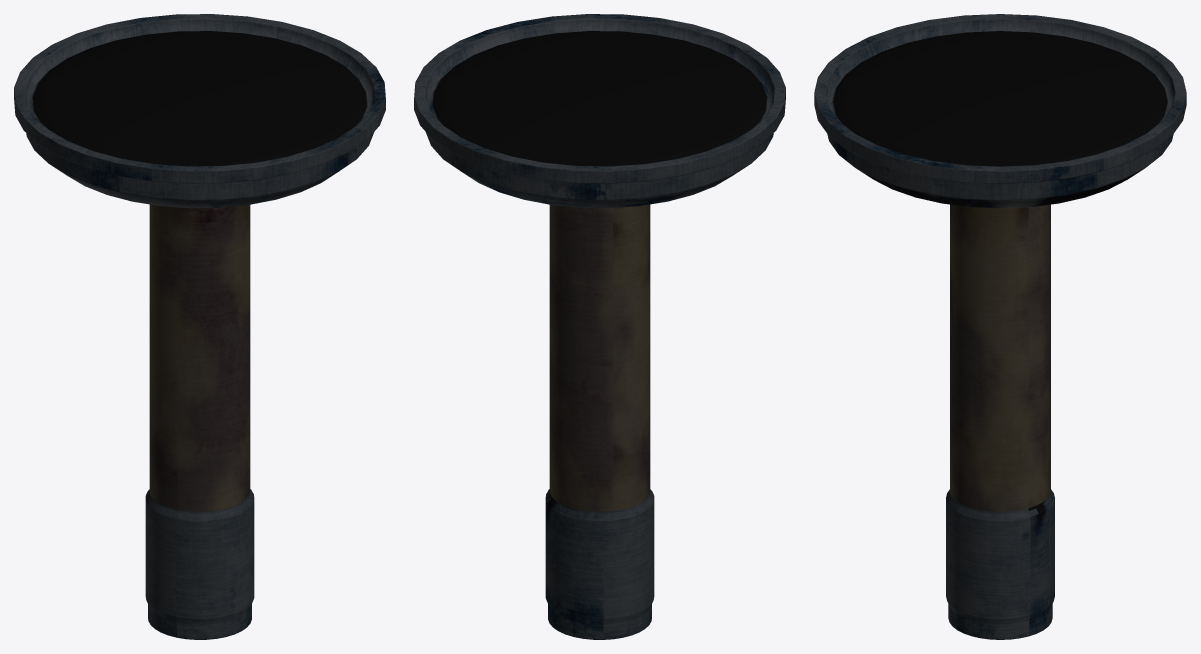
The model's file is FLASHLIGHT.fbx.
3 views of the same model, side by side, from view 1: azimuth 30°, elevation 25°; view 2: azimuth 150°, elevation 25°; view 3: azimuth 270°, elevation 25° (orthographic).
Parts seen in each view (by area): view 1: FLASHLIGHT; view 2: FLASHLIGHT; view 3: FLASHLIGHT.
Boxes of the visible parts, x1=… form: FLASHLIGHT: x1=14, y1=14, x2=385, y2=639; FLASHLIGHT: x1=414, y1=14, x2=785, y2=639; FLASHLIGHT: x1=814, y1=14, x2=1186, y2=639.
Size of the model in its own units: 0.3816 by 0.3816 by 0.5938.
